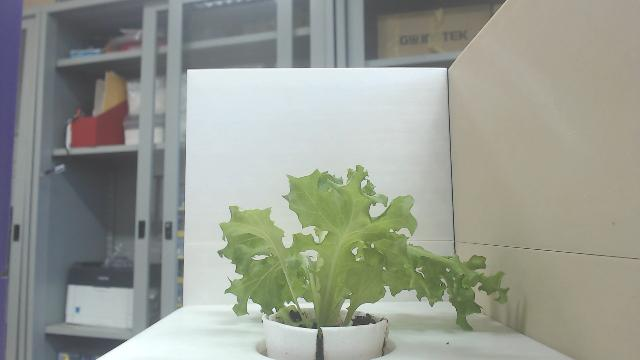Harvest Stage: (218, 164, 510, 334)
